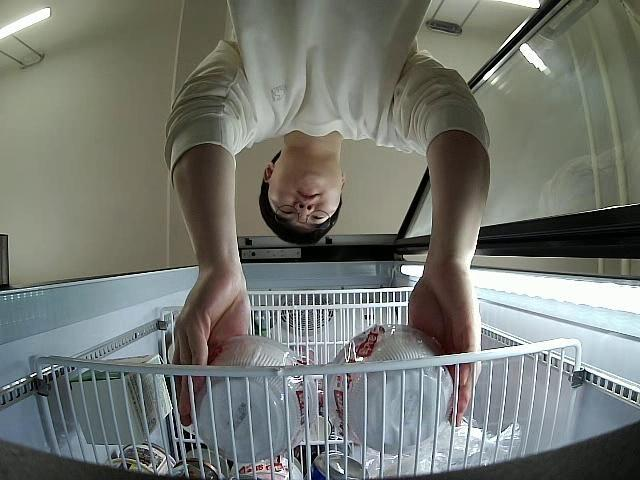09_yukGaeJang: (322, 324, 453, 452), (195, 337, 311, 459)
